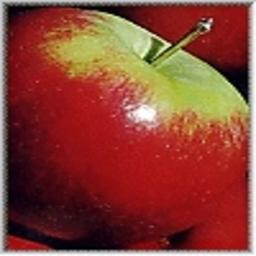apple: (4, 5, 249, 252)
